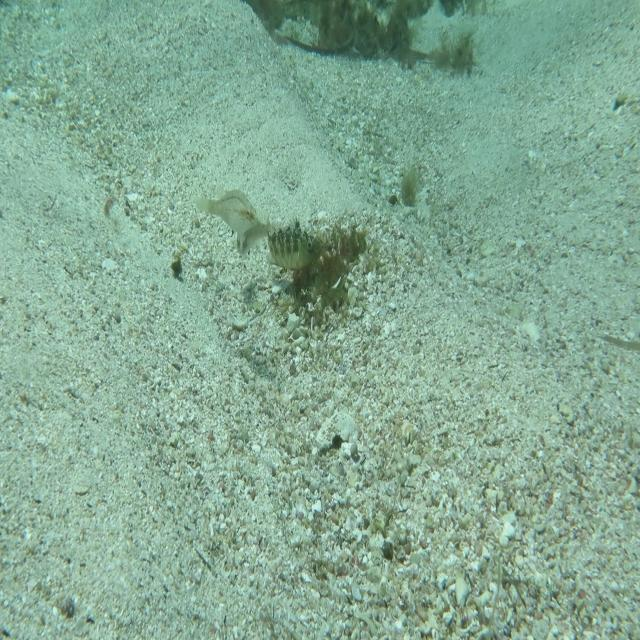BEND_OPP: (262, 210, 326, 276)
female: (232, 211, 279, 259)
nest: (260, 212, 364, 325)
other_fish: (193, 179, 261, 242)
